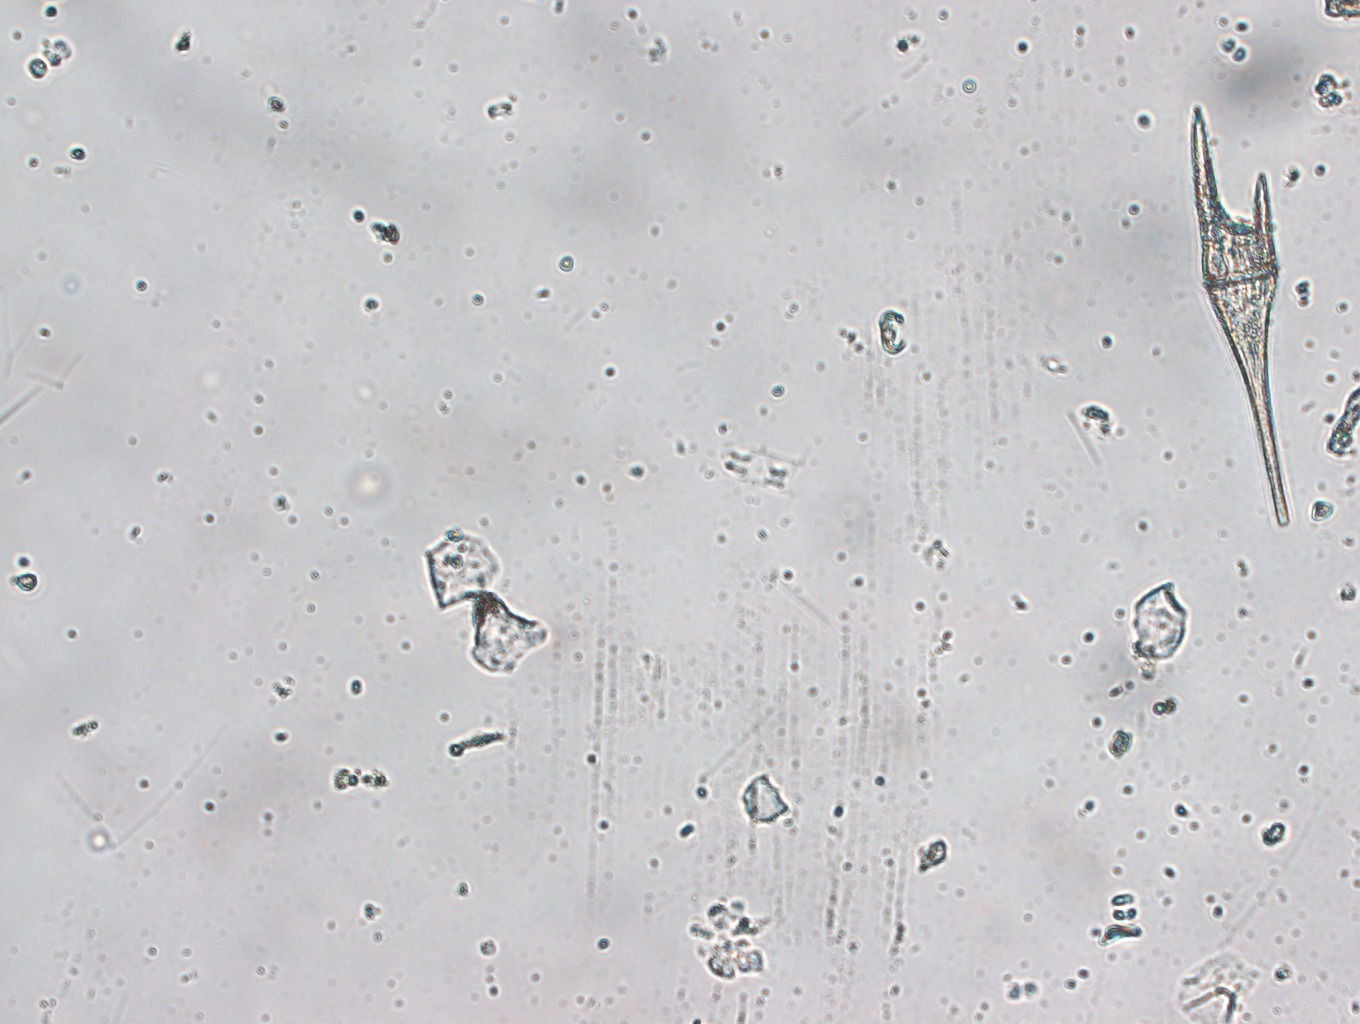ceratium furca: (1184, 108, 1290, 529)
